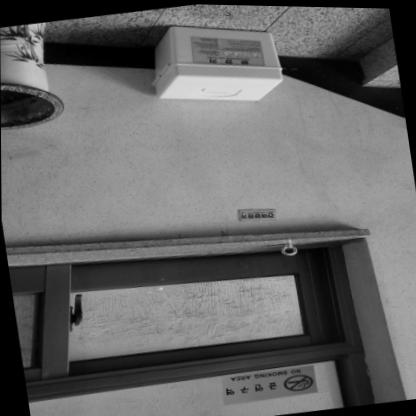DDL: (144, 10, 284, 113)
